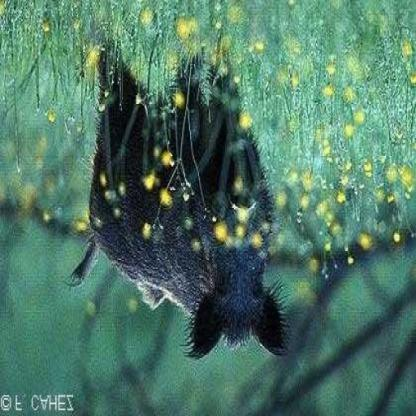boar: (64, 46, 288, 369)
